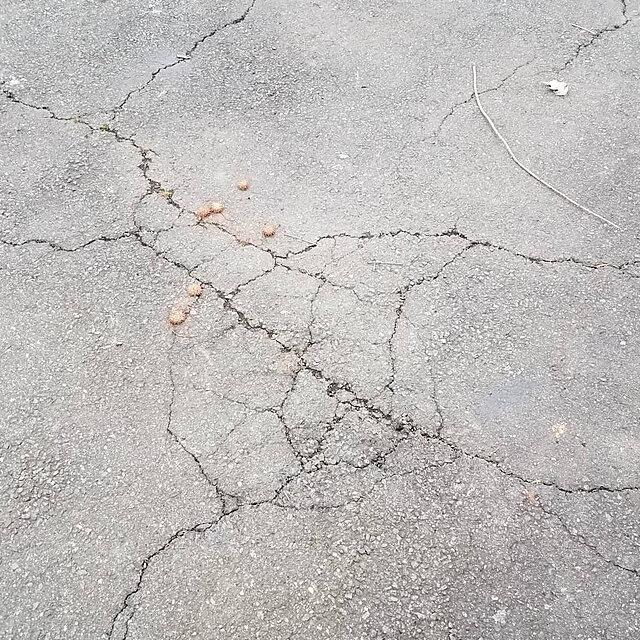retak_memanjang: (65, 75, 484, 552), (465, 438, 640, 640), (410, 0, 640, 148), (47, 466, 232, 640), (0, 81, 181, 255), (108, 0, 363, 123)
